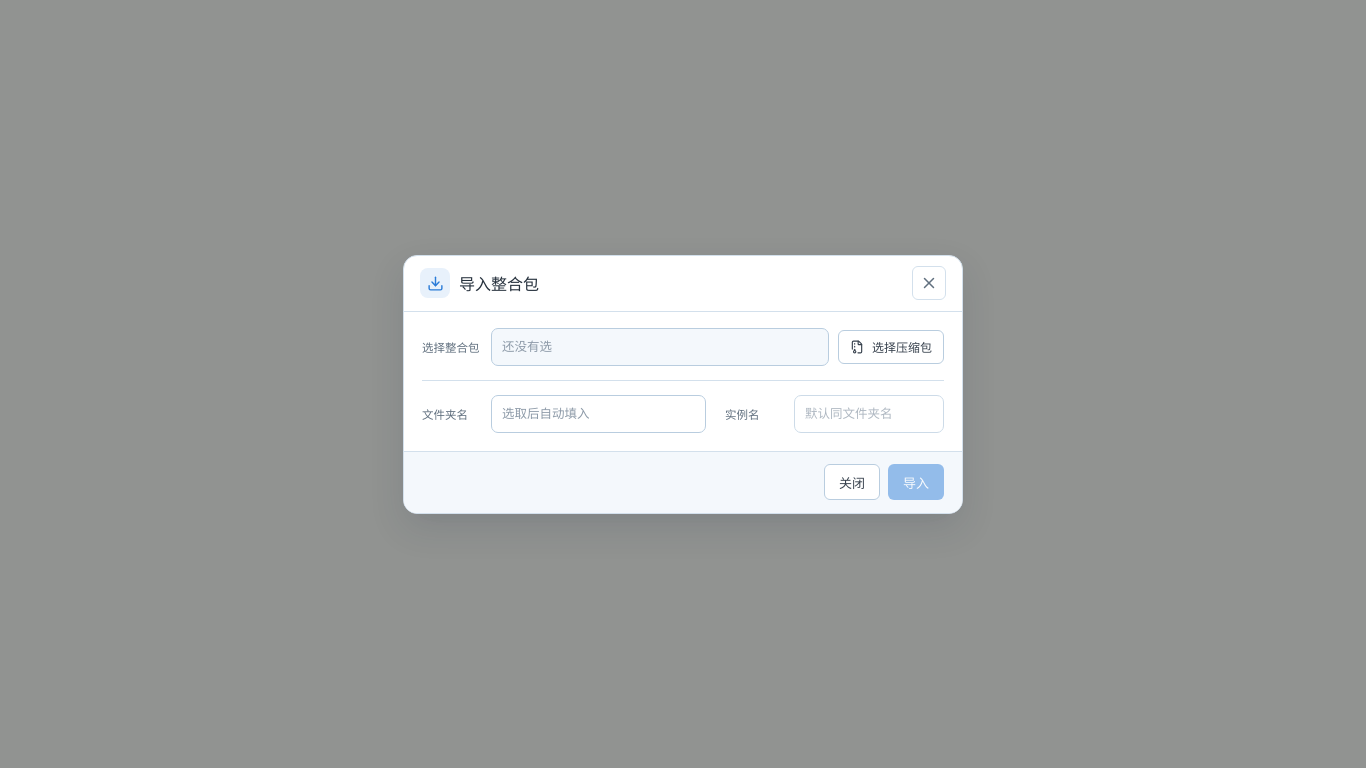
it: 导入整合包弹窗 › 取消走取消通道，不直接关窗
Click the button with class "import-pick".
click(891, 346)  # box [838,330,944,364]
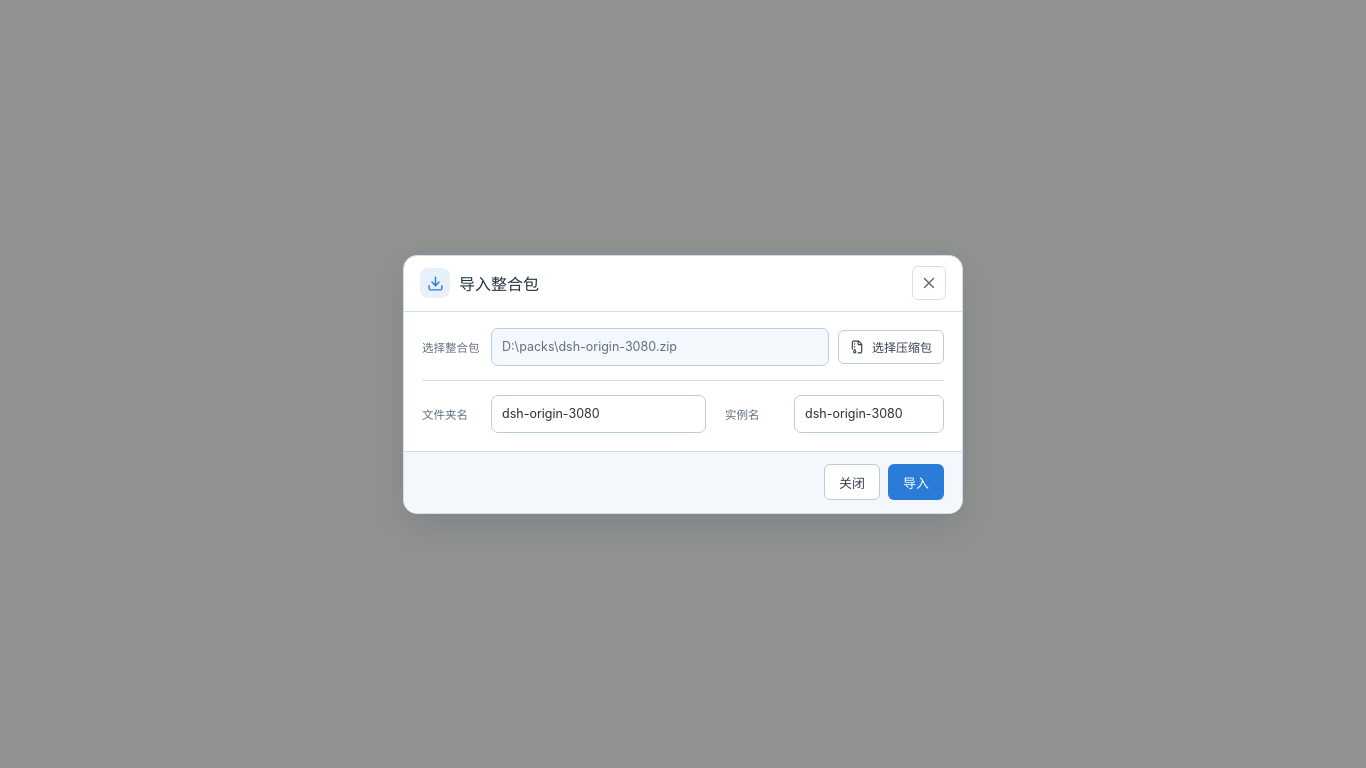
Click the button "导入".
click(916, 482)  # box [888,464,944,500]
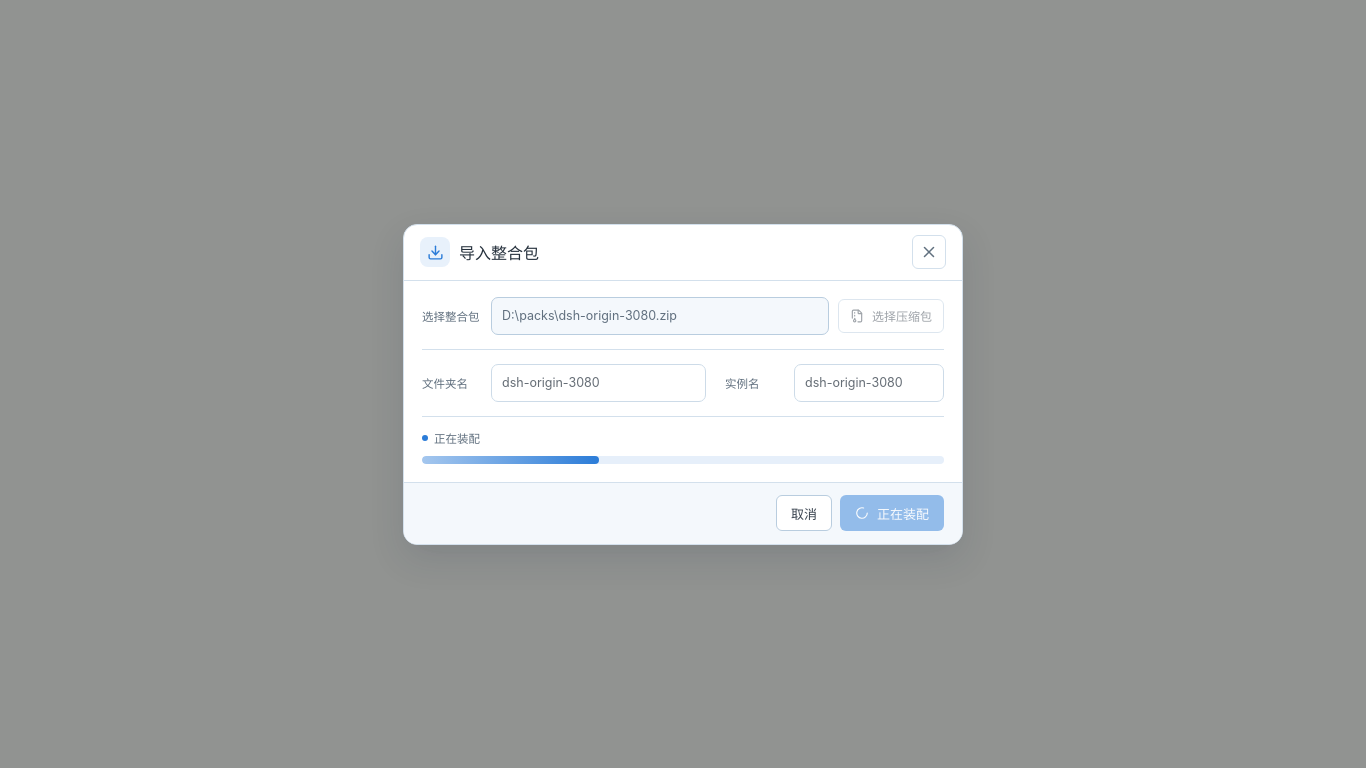
Click the button "取消".
click(804, 513)  # box [776,495,832,531]
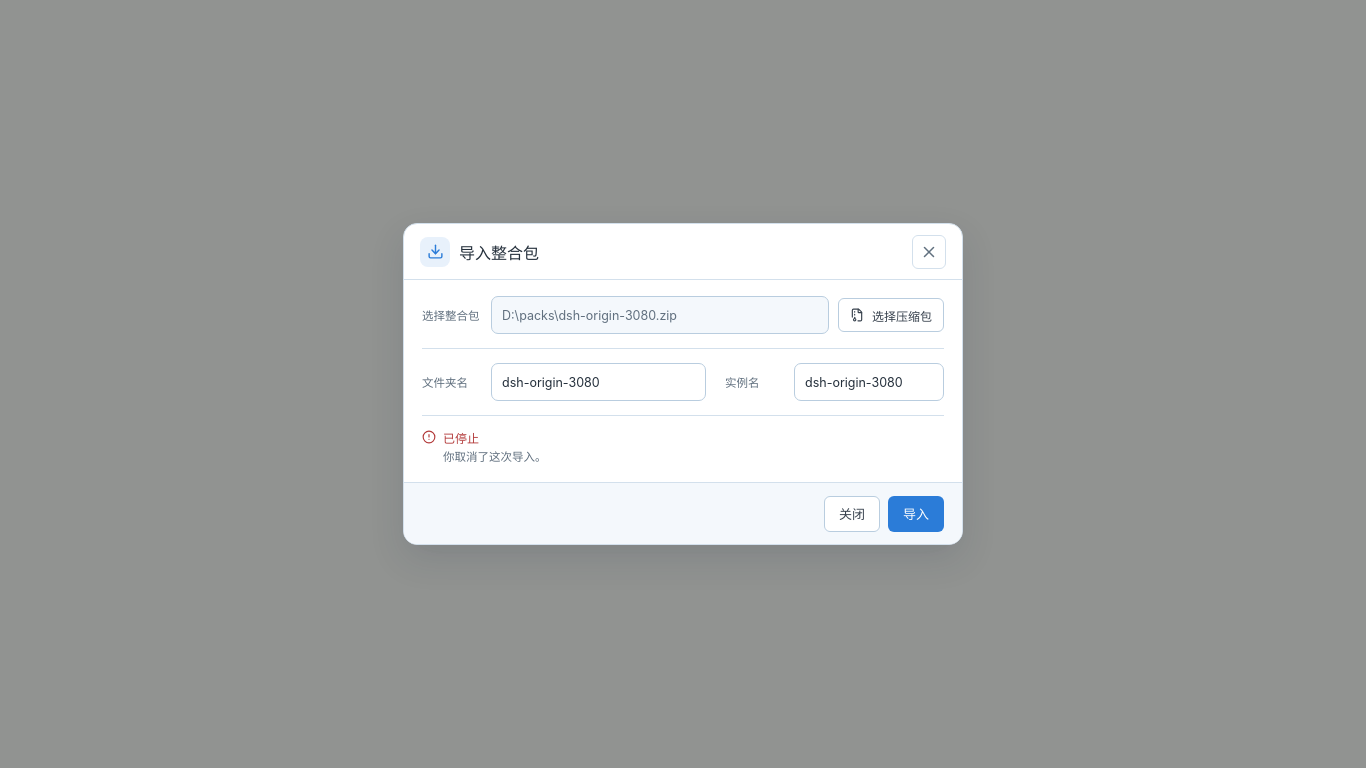
Expected: the dialog with class "import-dialog" is shown, [403,223,963,545]
Expected: the dialog with class "import-dialog" shows "你取消了这次导入。", [443,450,546,464]
